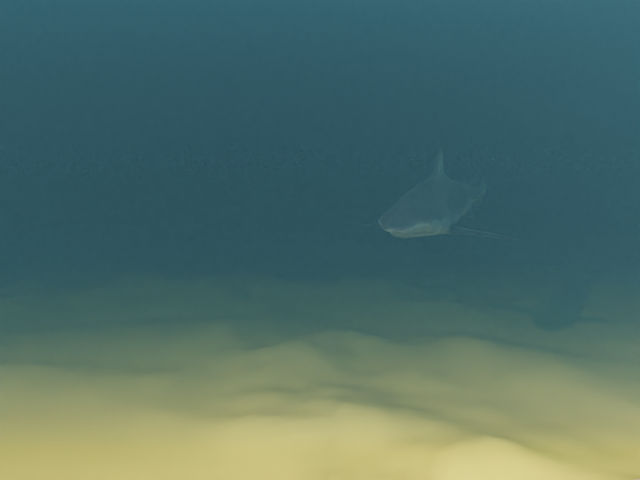Carribean Shark.001: (357, 140, 518, 240)
